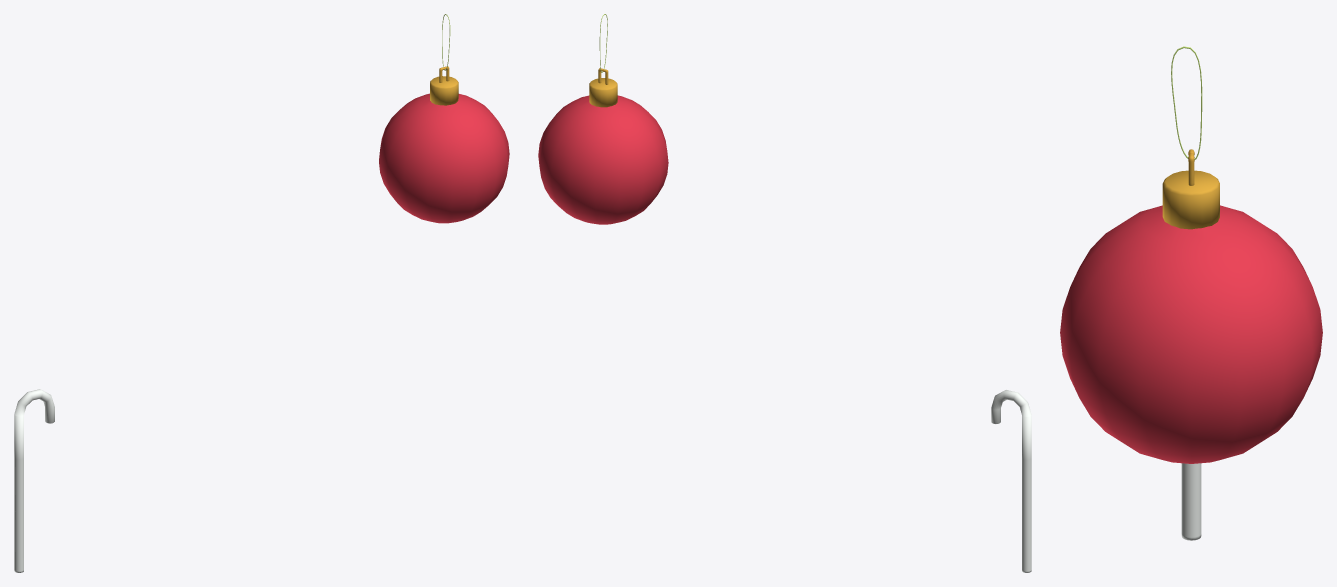
Rendered from TOY11.fbx_Scene.fbx.
3 renders of one model, left to right at view 1: azimuth 30°, elevation 25°; view 2: azimuth 150°, elevation 25°; view 3: azimuth 270°, elevation 25°, orthographic. The views are drawn at different scales.
Parts seen in each view (by area): view 1: christmastoy, Cylinder, kant.001; view 2: christmastoy, Cylinder, kant.001; view 3: christmastoy, kant.001, Cylinder, TREAD.
Part boxes in pixels (x1=…): christmastoy: x1=379, y1=93, x2=509, y2=223; Cylinder: x1=14, y1=389, x2=54, y2=572; kant.001: x1=430, y1=66, x2=458, y2=105; christmastoy: x1=538, y1=95, x2=668, y2=224; Cylinder: x1=991, y1=390, x2=1031, y2=572; kant.001: x1=589, y1=68, x2=617, y2=107; christmastoy: x1=1060, y1=205, x2=1322, y2=463; kant.001: x1=1162, y1=149, x2=1219, y2=229; Cylinder: x1=1181, y1=463, x2=1201, y2=540; TREAD: x1=1171, y1=46, x2=1202, y2=159.
Bounding box in the file's own units: 1.96 × 1.75 × 0.46.
